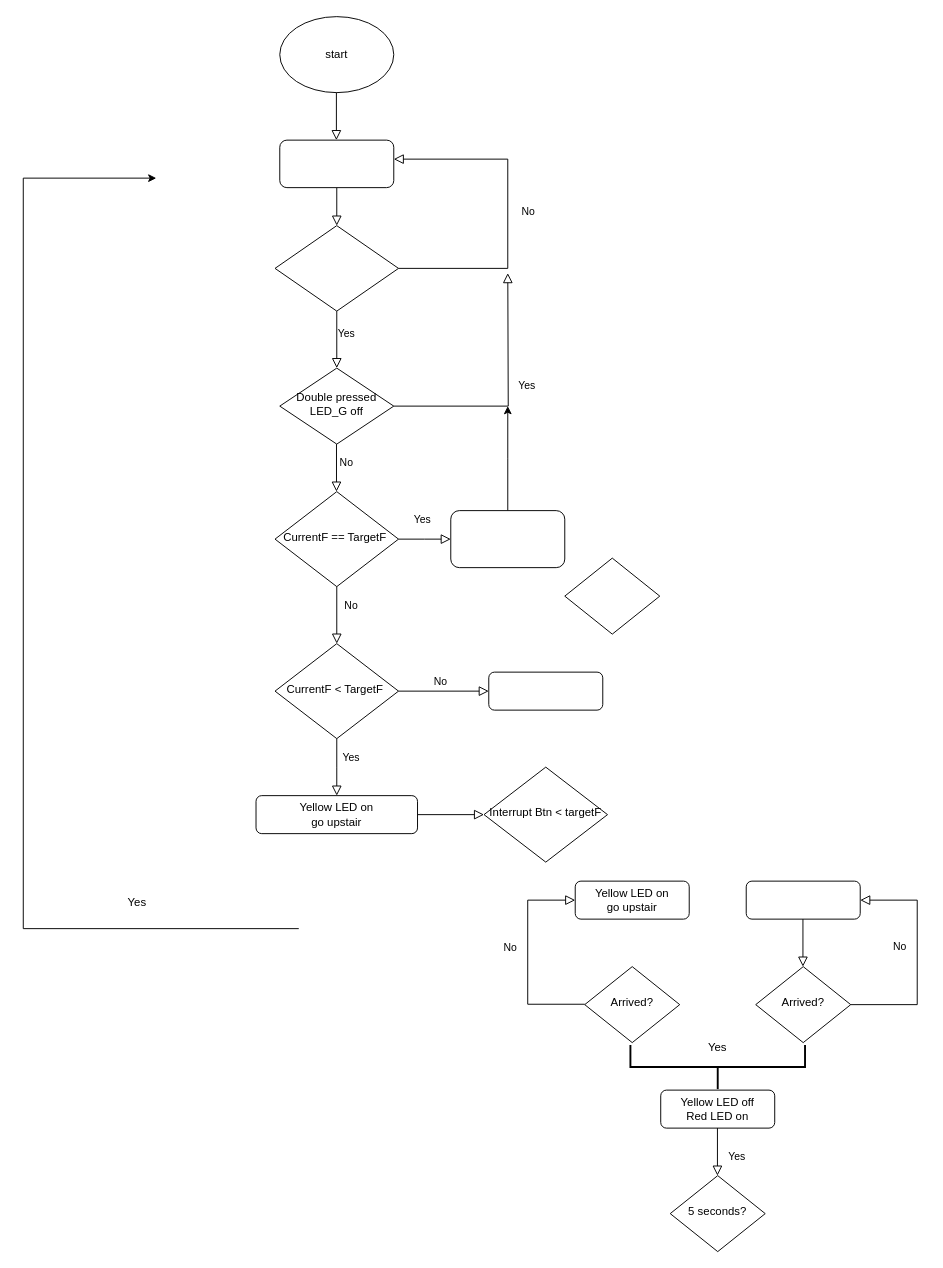
This 943x1268 diagram has some shape labels left out. The shapes that lost their labels are listed below. From the top down, each one's centre as x and y in pixels, then its label:
At [336,163]: "(Stanby mode) Blue LED on".
At [336,268]: "Btn pressed LED_G on LED_B off".
At [507,539]: "LED_R on".
At [612,595]: "Go down Green LED on".
At [545,690]: "Yellow LED on go down".
At [802,899]: "Yellow LED on go downstair".
